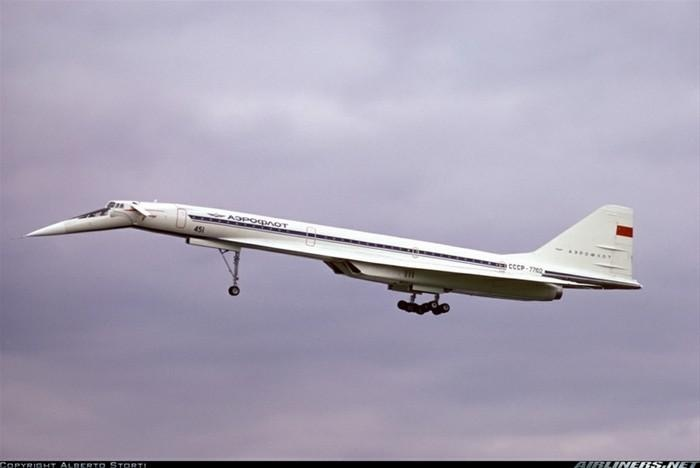airplane: (10, 186, 646, 316)
